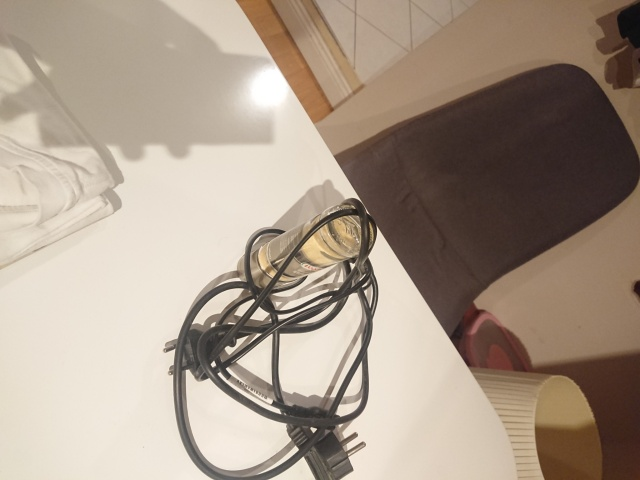Kotanyi Garlic Granules 70g: (236, 203, 378, 294)
